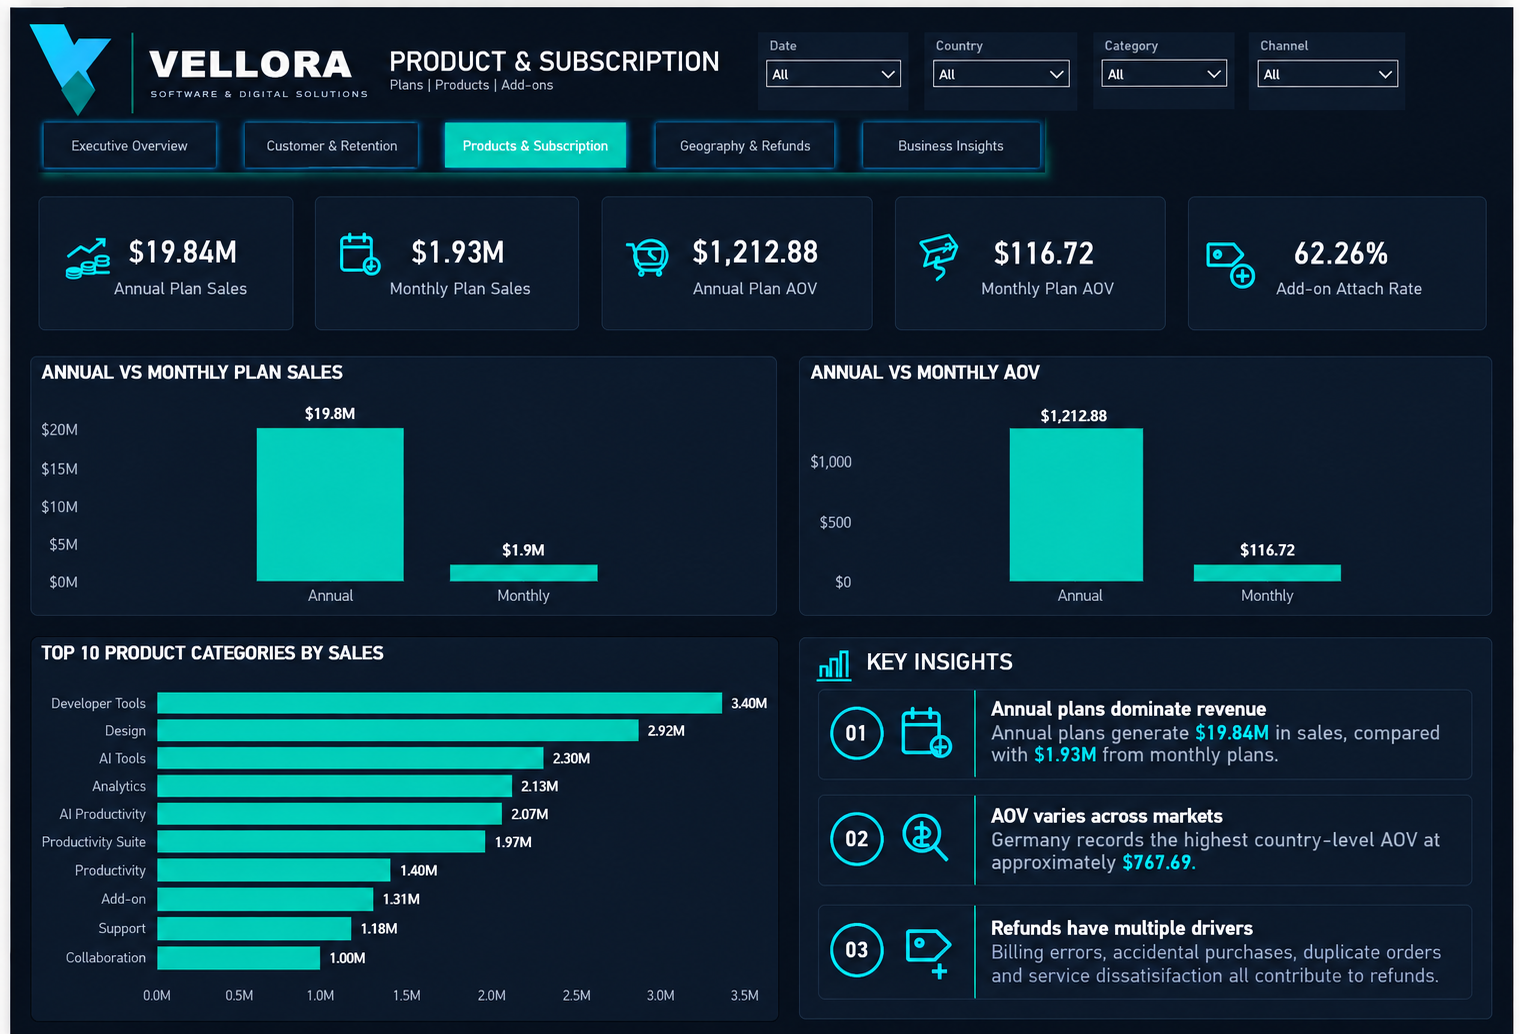

What the dashboard file says about the page in this screenshot:
{"tool":"powerbi","page":{"name":"Products & Subscription","canvas":[1600,1100],"ordinal":2},"visuals":[{"type":"card","fields":{"Values":["_Measures.Monthly Plan Sales"]},"box":[328.3,208.3,245,135],"z":0},{"type":"card","fields":{"Values":["_Measures.Annual Plan Sales"]},"box":[48.3,210,245,135],"z":1000},{"type":"card","fields":{"Values":["_Measures.Annual Plan AOV"]},"box":[611.7,206.7,261.7,135],"z":2000},{"type":"card","fields":{"Values":["_Measures.Monthly Plan AOV"]},"box":[916.7,203.3,263.3,136.7],"z":3000},{"type":"card","fields":{"Values":["_Measures.Add-on Attach Rate"]},"box":[1226.7,205,273.3,136.7],"z":4000},{"type":"clusteredColumnChart","title":"ANNUAL VS MONTHLY PLAN SALES","fields":{"Category":["Plan Type.Plan"],"Y":["_Measures.Plan Sales"]},"box":[20,376.7,793.3,261.7],"z":5000},{"type":"clusteredColumnChart","title":"ANNUAL VS MONTHLY AOV","fields":{"Category":["Plan Type.Plan"],"Y":["_Measures.Plan AOV"]},"box":[835,376.7,738.3,261.7],"z":6000},{"type":"clusteredBarChart","title":"TOP 10 PRODUCT CATEGORIES BY SALES","fields":{"Category":["Products_final__3.category"],"Y":["_Measures.Total Sales"]},"box":[20,661.7,793.3,415],"z":7000},{"type":"slicer","fields":{"Values":["Dim_Date.Date"]},"box":[792.9,30,161.7,83.3],"z":8000},{"type":"slicer","fields":{"Values":["Events_updated.country"]},"box":[968.7,30,161.7,83.3],"z":9000},{"type":"slicer","title":"Channel","fields":{"Values":["Events_updated.channel"]},"box":[1308.6,30,170,82.5],"z":10000},{"type":"slicer","fields":{"Values":["Products_final__3.category"]},"box":[1144.4,28.6,150,81.7],"z":11000},{"type":"image","box":[0,0,468.3,146.7],"z":12000},{"type":"textbox","box":[394,36,398,74],"z":13000},{"type":"image","box":[66.7,235,50,75],"z":14000},{"type":"image","box":[343.3,230,50,75],"z":15000},{"type":"image","box":[1226.7,235,63.3,76.7],"z":16000},{"type":"image","box":[926.7,228.3,53.3,75],"z":17000},{"type":"image","box":[625,231.7,50,75],"z":18000},{"type":"shape","box":[835,661.7,738.3,415],"z":19000},{"type":"textbox","box":[896.7,676.7,216.7,48.3],"z":20000},{"type":"image","box":[831.7,675,81.7,48.3],"z":21000},{"type":"shape","box":[856.7,725,696.7,93.3],"z":22000},{"type":"image","box":[825,736.7,141.7,68.3],"z":23000},{"type":"image","box":[913.3,736.7,106.7,68.3],"z":24000},{"type":"shape","box":[960,731.7,120,81.7],"z":25000},{"type":"textbox","box":[1031.7,725,521.7,88.3],"z":26000},{"type":"shape","box":[856.7,838.3,696.7,93.3],"z":27000},{"type":"image","box":[825,850,141.7,68.3],"z":28000},{"type":"image","box":[913.3,850,106.7,68.3],"z":29000},{"type":"shape","box":[960,838.3,120,93.3],"z":30000},{"type":"shape","box":[856.7,955,696.7,93.3],"z":31000},{"type":"image","box":[825,968.3,141.7,68.3],"z":32000},{"type":"image","box":[916.7,970,106.7,68.3],"z":33000},{"type":"shape","box":[960,956.7,120,81.7],"z":34000},{"type":"textbox","box":[1031.7,838.3,530,96.7],"z":35000},{"type":"textbox","box":[1025,956.7,541.7,130],"z":36000},{"type":"pageNavigator","box":[30,116.7,1050,60],"z":36001}]}

Visuals, with their boxes in screenshot pixels (x1, y1, x2, y2), scaled from the page's 1600x1100 canvas onto the 1520x1034 screenshot:
card - _Measures.Monthly Plan Sales: [left=312, top=196, right=545, bottom=323]
card - _Measures.Annual Plan Sales: [left=46, top=197, right=279, bottom=324]
card - _Measures.Annual Plan AOV: [left=581, top=194, right=830, bottom=321]
card - _Measures.Monthly Plan AOV: [left=871, top=191, right=1121, bottom=320]
card - _Measures.Add-on Attach Rate: [left=1165, top=193, right=1425, bottom=321]
"ANNUAL VS MONTHLY PLAN SALES" clusteredColumnChart: [left=19, top=354, right=773, bottom=600]
"ANNUAL VS MONTHLY AOV" clusteredColumnChart: [left=793, top=354, right=1495, bottom=600]
"TOP 10 PRODUCT CATEGORIES BY SALES" clusteredBarChart: [left=19, top=622, right=773, bottom=1012]
slicer - Dim_Date.Date: [left=753, top=28, right=907, bottom=107]
slicer - Events_updated.country: [left=920, top=28, right=1074, bottom=107]
"Channel" slicer: [left=1243, top=28, right=1405, bottom=106]
slicer - Products_final__3.category: [left=1087, top=27, right=1230, bottom=104]
image: [left=0, top=0, right=445, bottom=138]
textbox: [left=374, top=34, right=752, bottom=103]
image: [left=63, top=221, right=111, bottom=291]
image: [left=326, top=216, right=374, bottom=287]
image: [left=1165, top=221, right=1226, bottom=293]
image: [left=880, top=215, right=931, bottom=285]
image: [left=594, top=218, right=641, bottom=288]
shape: [left=793, top=622, right=1495, bottom=1012]
textbox: [left=852, top=636, right=1058, bottom=682]
image: [left=790, top=634, right=868, bottom=680]
shape: [left=814, top=682, right=1476, bottom=769]
image: [left=784, top=692, right=918, bottom=757]
image: [left=868, top=692, right=969, bottom=757]
shape: [left=912, top=688, right=1026, bottom=765]
textbox: [left=980, top=682, right=1476, bottom=765]
shape: [left=814, top=788, right=1476, bottom=876]
image: [left=784, top=799, right=918, bottom=863]
image: [left=868, top=799, right=969, bottom=863]
shape: [left=912, top=788, right=1026, bottom=876]
shape: [left=814, top=898, right=1476, bottom=985]
image: [left=784, top=910, right=918, bottom=974]
image: [left=871, top=912, right=972, bottom=976]
shape: [left=912, top=899, right=1026, bottom=976]
textbox: [left=980, top=788, right=1484, bottom=879]
textbox: [left=974, top=899, right=1488, bottom=1021]
pageNavigator: [left=28, top=110, right=1026, bottom=166]
